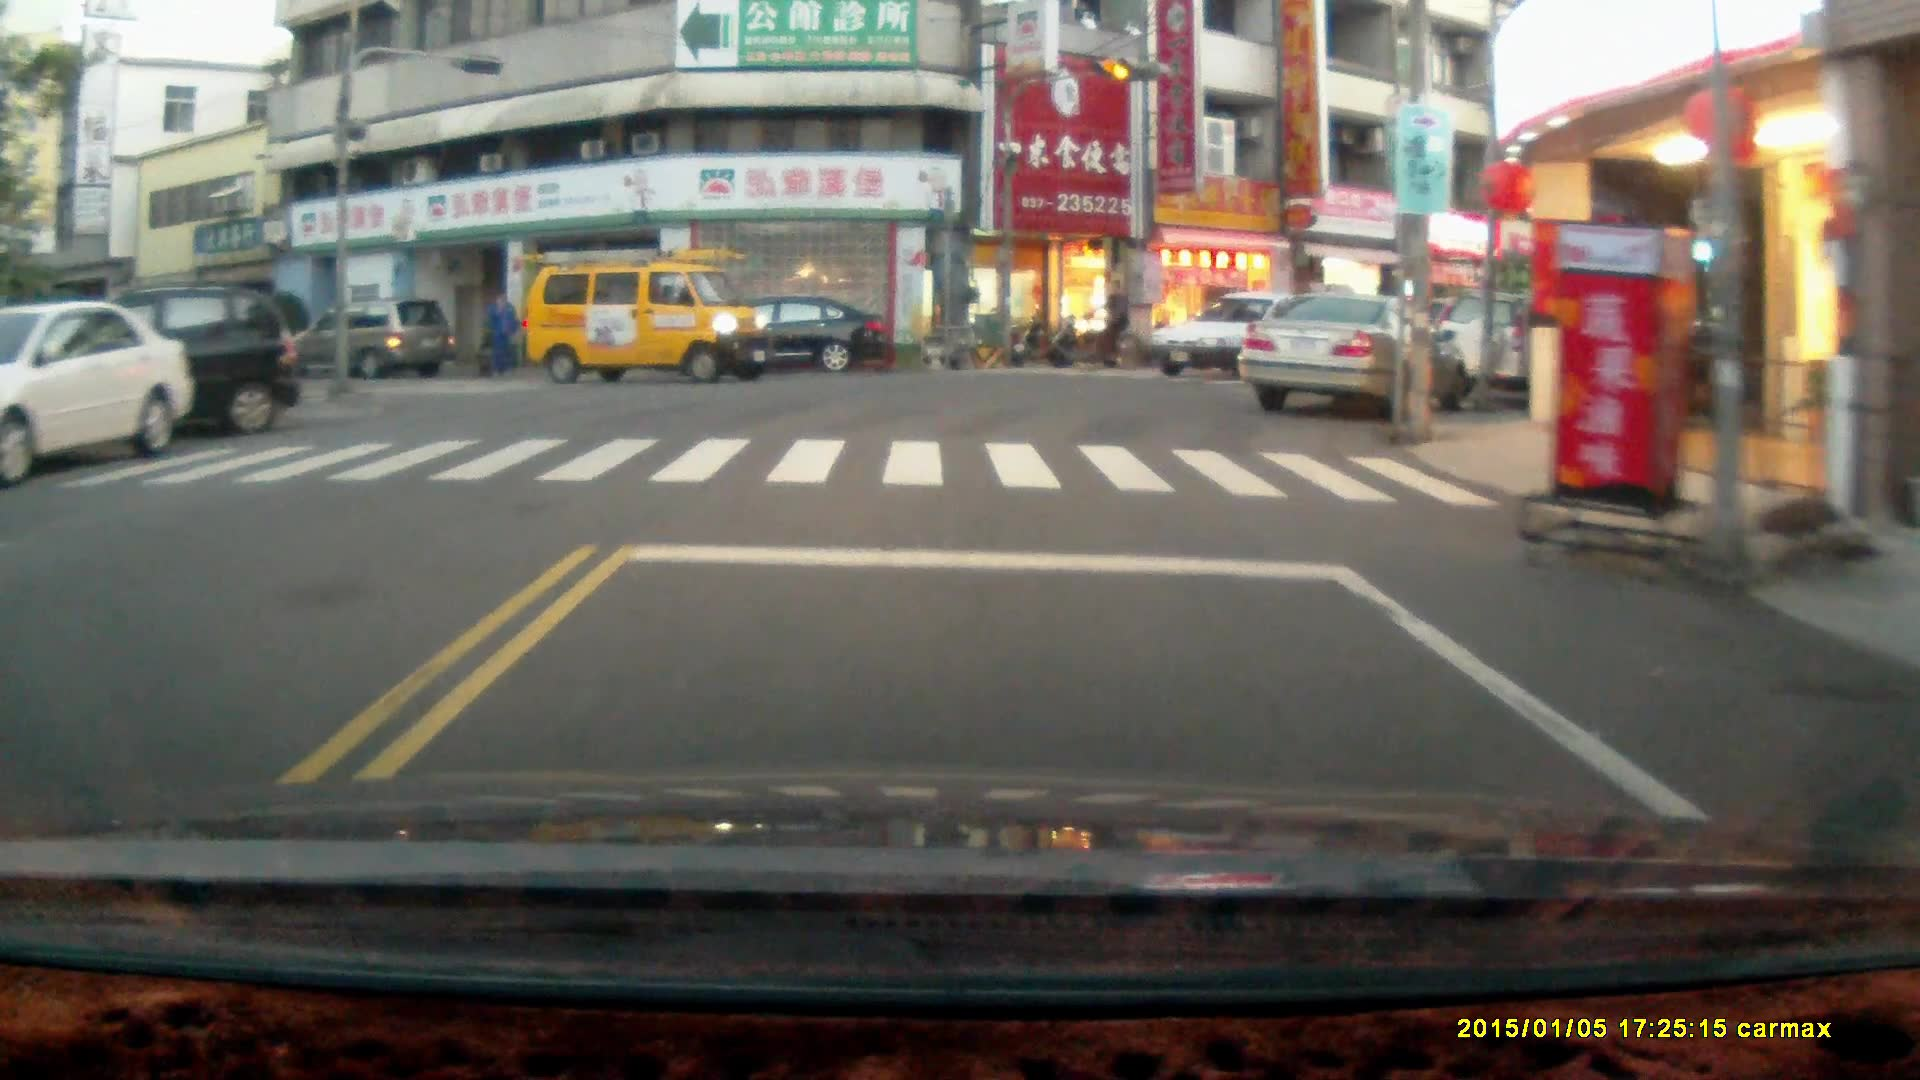pedestrian: (483, 290, 518, 374)
rider: (1066, 274, 1142, 370)
vehicle: (12, 276, 300, 440), (1, 296, 200, 475), (520, 245, 770, 385), (1235, 287, 1477, 413), (1428, 284, 1657, 404), (1141, 282, 1358, 378), (698, 289, 890, 371), (284, 296, 453, 381)
